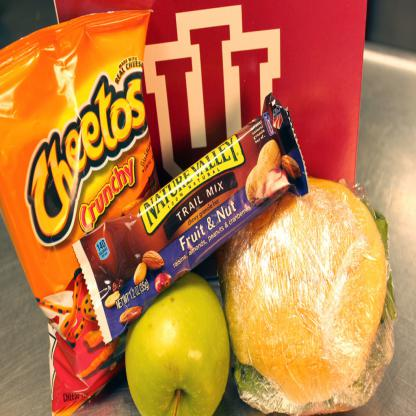Apple: (124, 272, 230, 416)
